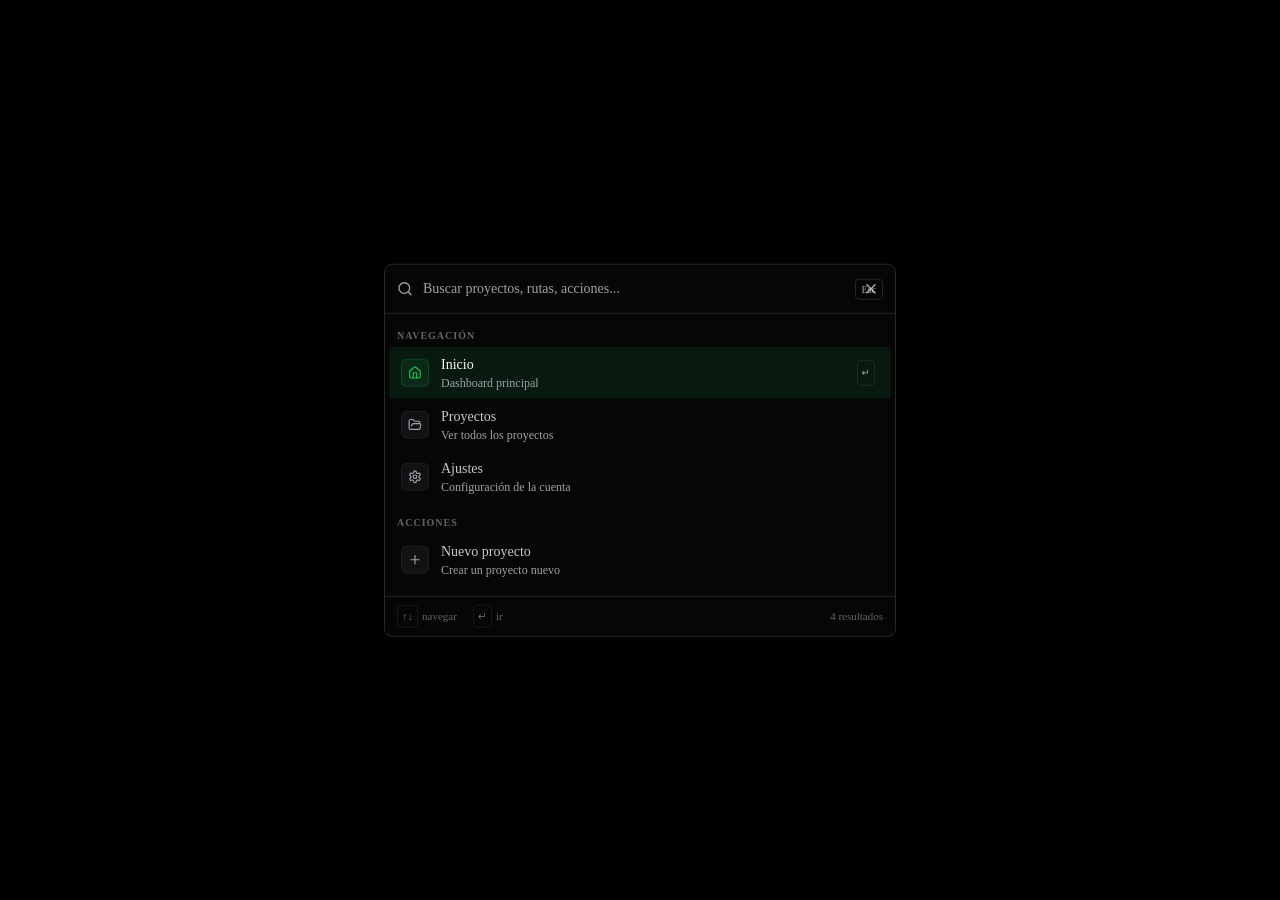
Test case: CommandPalette › shows empty state when no matches
Type "zzznoexiste" into the field with placeholder "Buscar proyectos, rutas, acciones..." at (634, 289), box [423, 267, 844, 311]
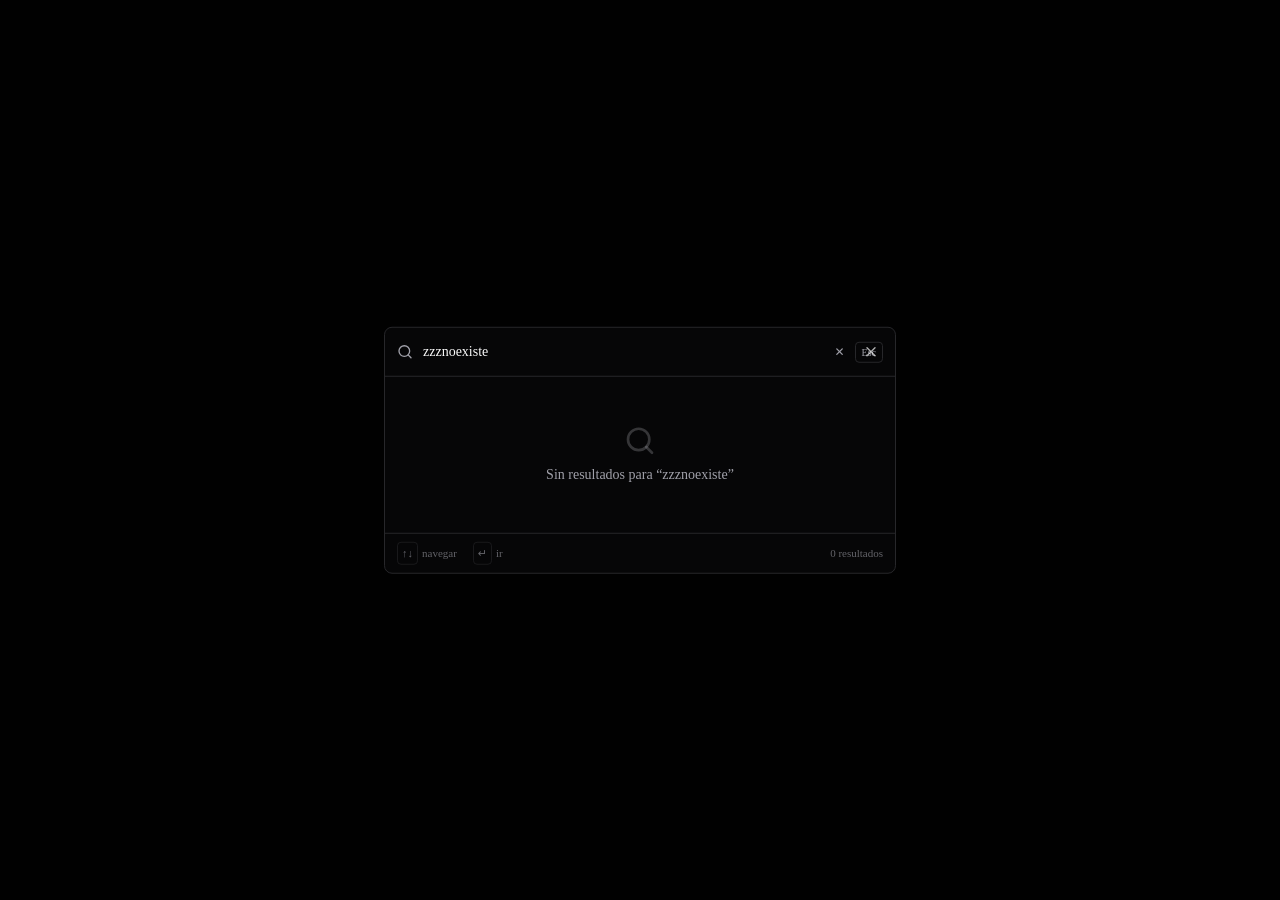
Now the text "Sin resultados para “zzznoexiste”" is shown, box [546, 465, 734, 485]
